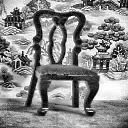chair_success: (18, 8, 108, 118)
